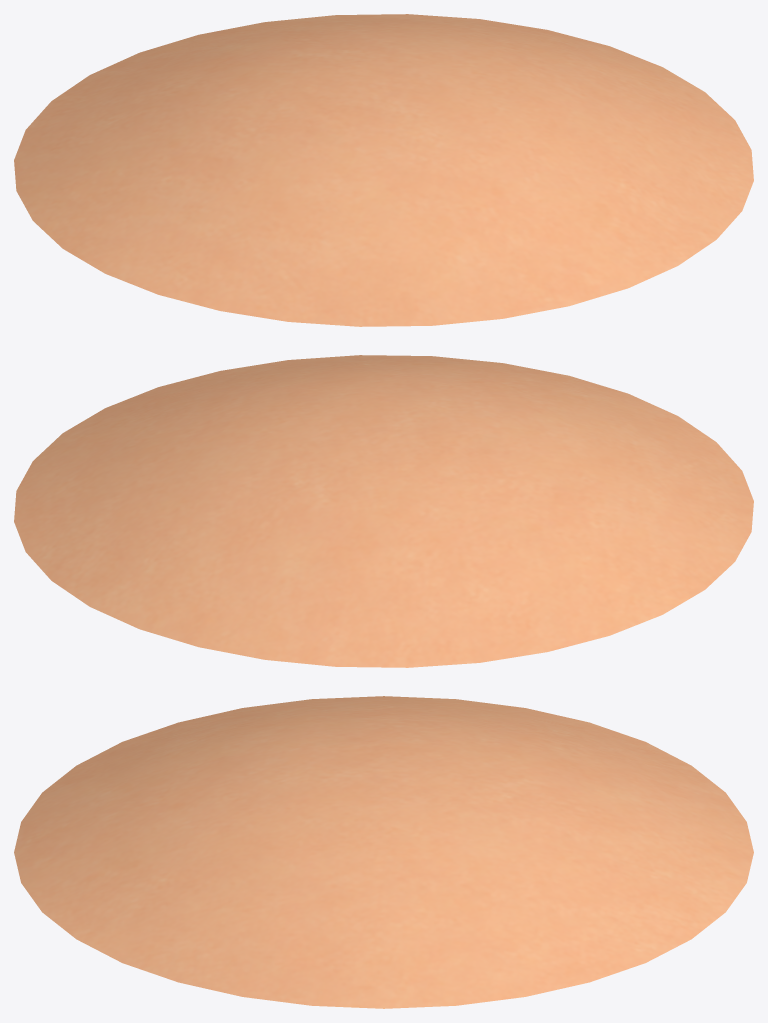
The model's file is Savanna_Ground_02.fbx.
The picture shows the model from 3 angles, top to bottom: view 1: azimuth 30°, elevation 25°; view 2: azimuth 150°, elevation 25°; view 3: azimuth 270°, elevation 25°; orthographic projection.
Parts seen in each view (by area): view 1: Savanna_Ground_02; view 2: Savanna_Ground_02; view 3: Savanna_Ground_02.
Boxes of the visible parts, box(x1,y1,x2,y2) form: Savanna_Ground_02: box(14, 14, 753, 326); Savanna_Ground_02: box(14, 355, 753, 667); Savanna_Ground_02: box(14, 696, 753, 1008).
Size of the model in its own units: 1561 by 1561 by 181.
